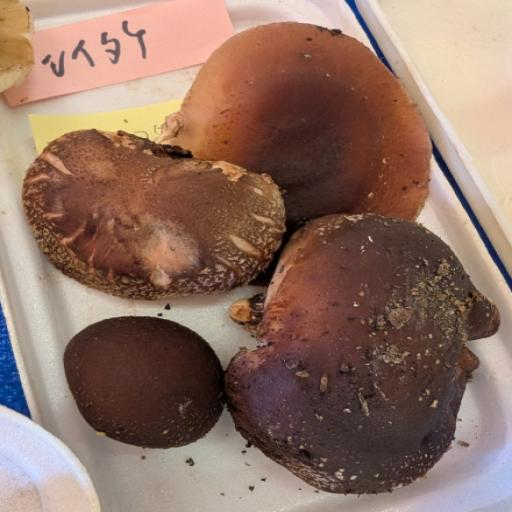Shiitake Mushroom: (10, 0, 506, 512)
